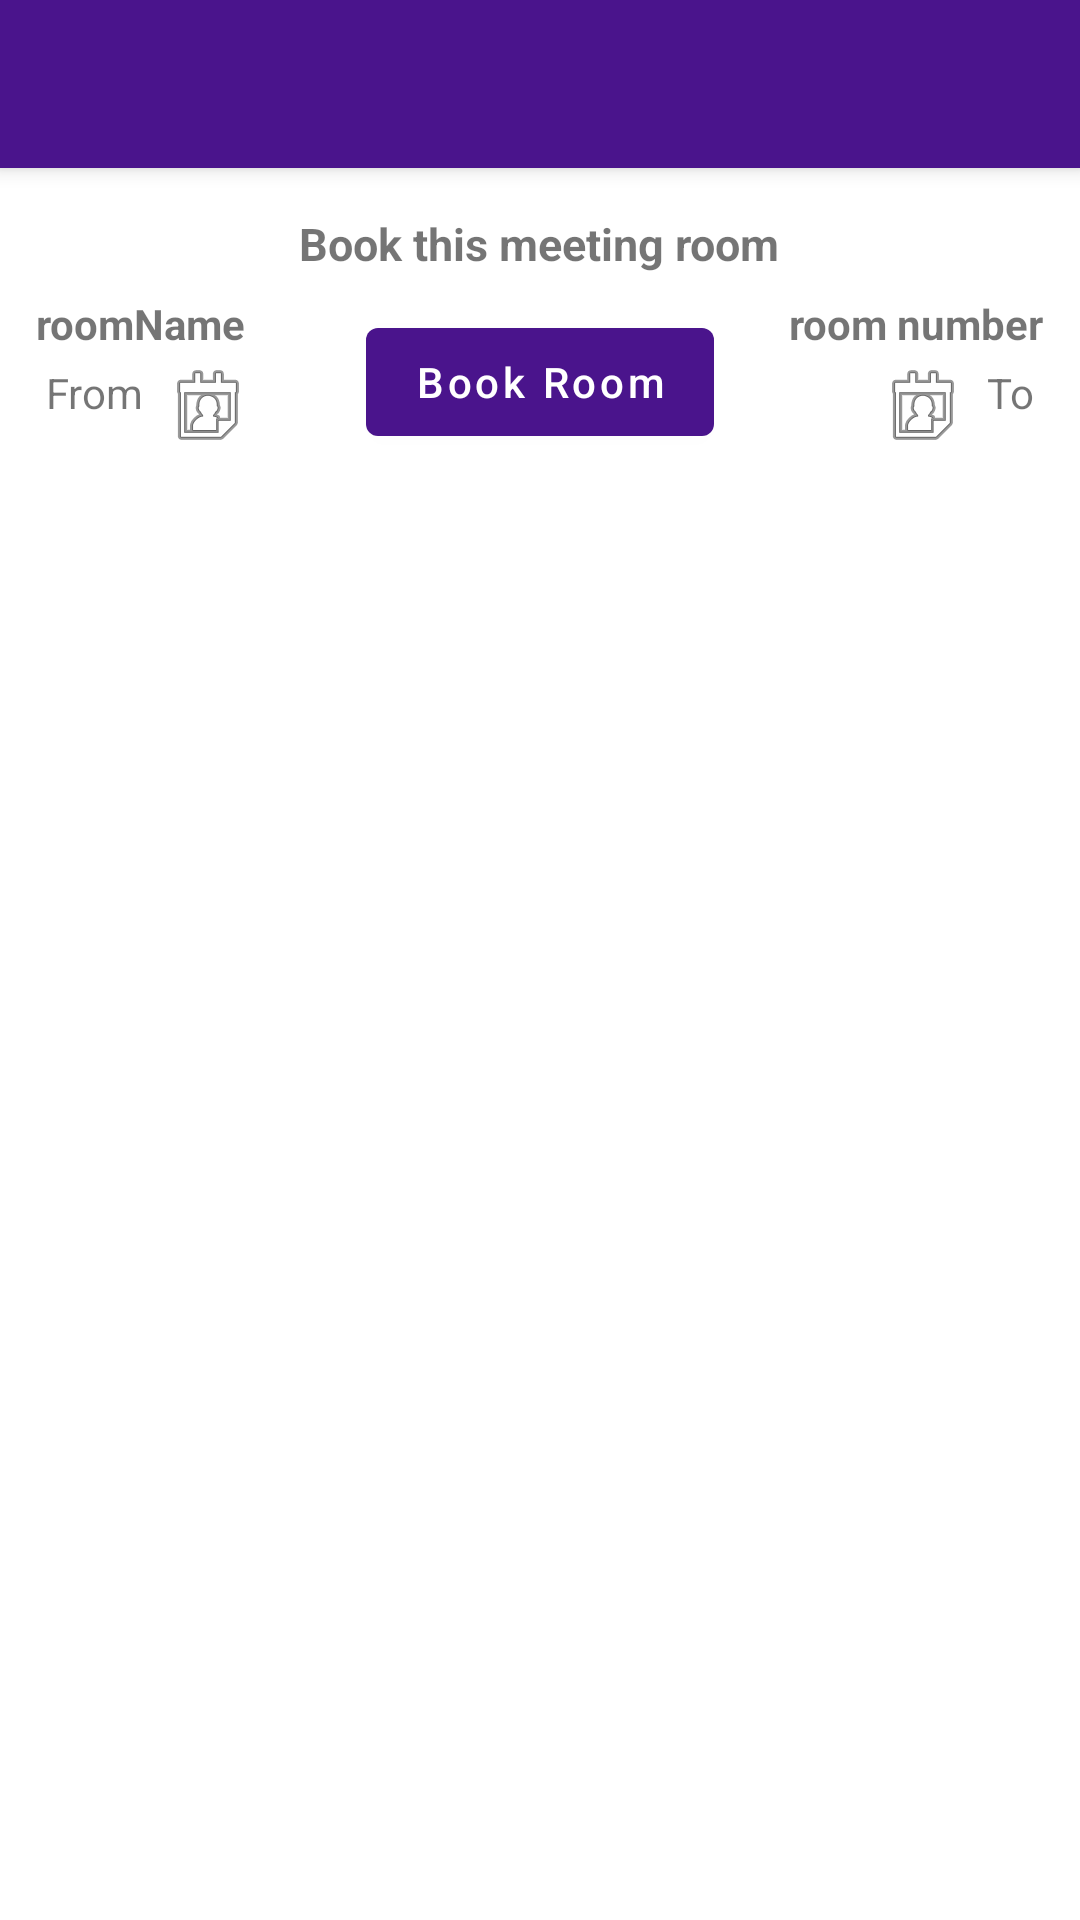

Icons on this 1080*1920 Android screen, each with its box as (x1, y1, x2, y2):
calendar: (177, 370, 239, 440), (892, 370, 954, 440)
